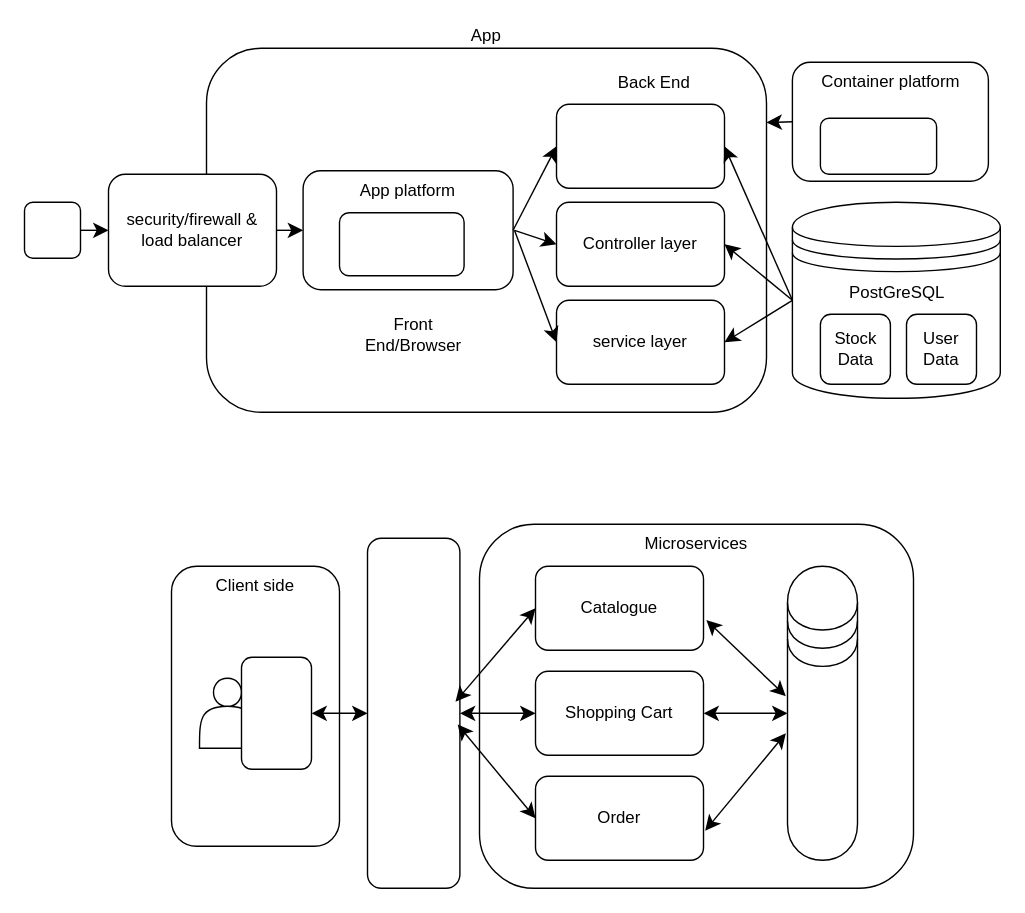
This 1025x913 diagram has some shape labels left out. The shapes that lost their labels are listed below. From the top down, each one's centre as x and y in pixels, then its label:
point (639, 145): repo layer
point (878, 145): Docker
point (51, 229): user
point (401, 243): Thymeleaf Template
point (276, 712): Web App
point (413, 712): API Gateway
point (822, 712): DB
